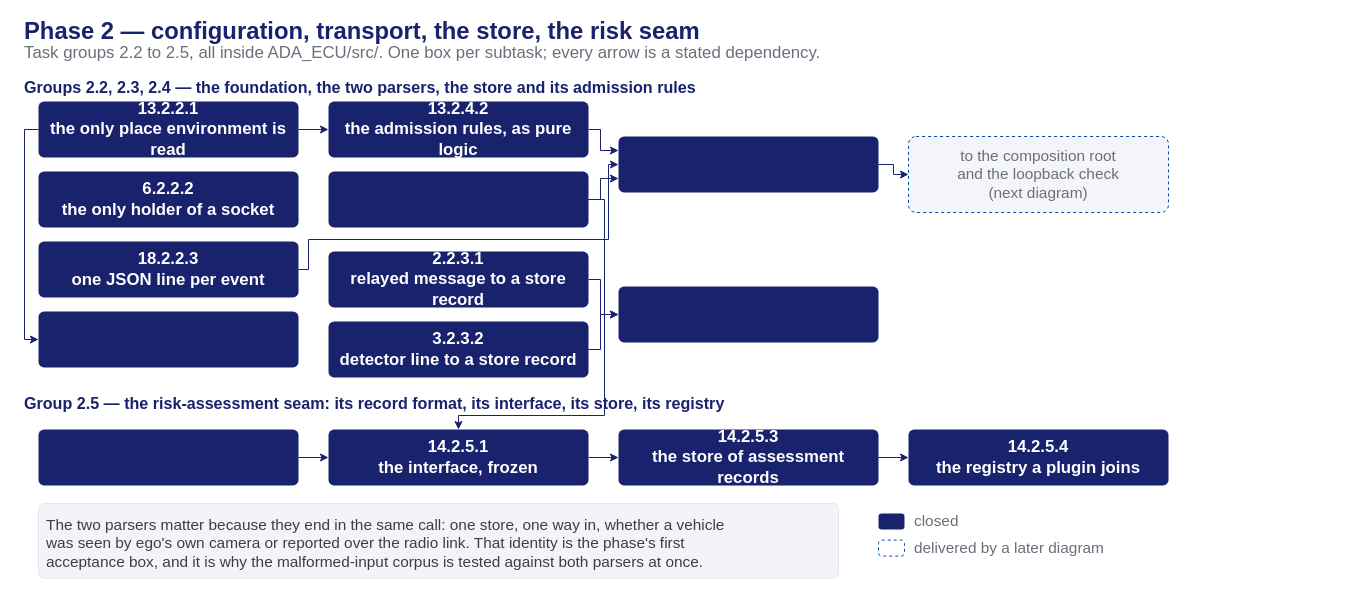
This 1350x596 diagram has some shape labels left out. Here are the shapes that lost their labels. From the top down, the centre of each, then its label:
the point at 748,164: 13.2.4.3 admission and expiry, in the store
the point at 458,199: 3.2.4.1 the store of tracked vehicles
the point at 748,314: 3.2.3.3 the malformed-input corpus
the point at 168,339: 3.2.2.4 two writers, one reader
the point at 168,457: 14.2.5.2 the assessment record format
